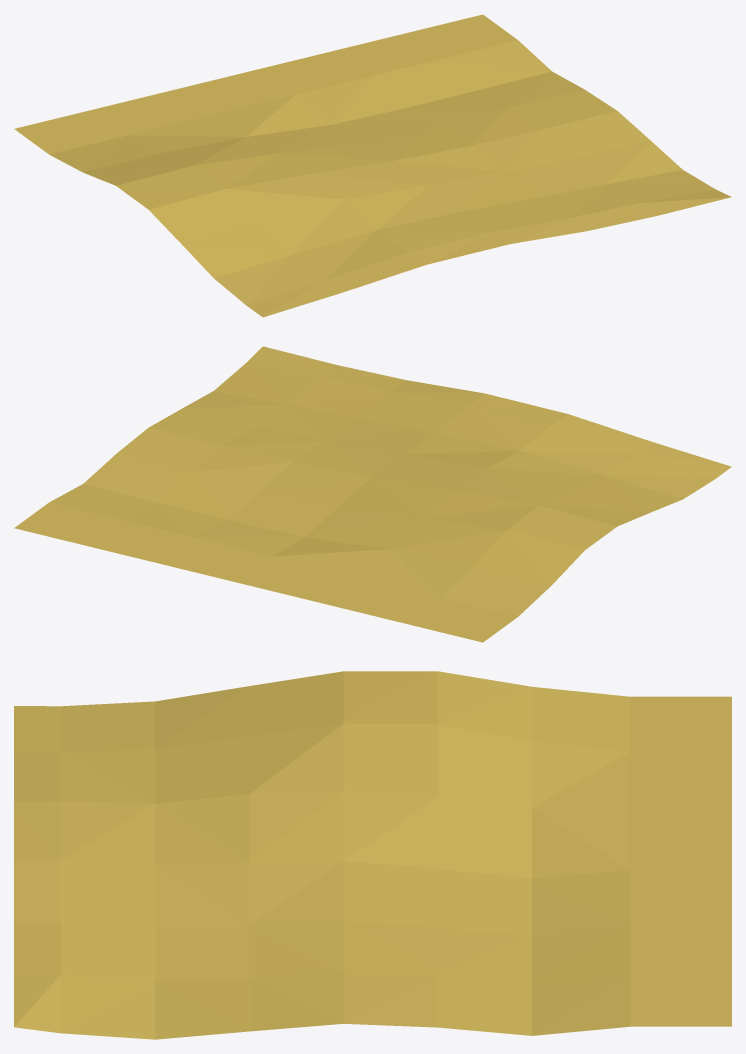
The model's file is terrain-desert.fbx.
3 renders of one model, top to bottom at view 1: azimuth 30°, elevation 25°; view 2: azimuth 150°, elevation 25°; view 3: azimuth 270°, elevation 25°, orthographic. The views are drawn at different scales.
Visible parts, largest first — view 1: terrain-desert; view 2: terrain-desert; view 3: terrain-desert.
Boxes of the visible parts, box(x1,y1,x2,y2) form: terrain-desert: box(14, 14, 731, 317); terrain-desert: box(14, 346, 731, 642); terrain-desert: box(14, 671, 731, 1039).
Bounding box in the file's own units: 30.14 × 1.75 × 27.71.
